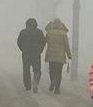person: (44, 17, 74, 96), (16, 18, 46, 95)
